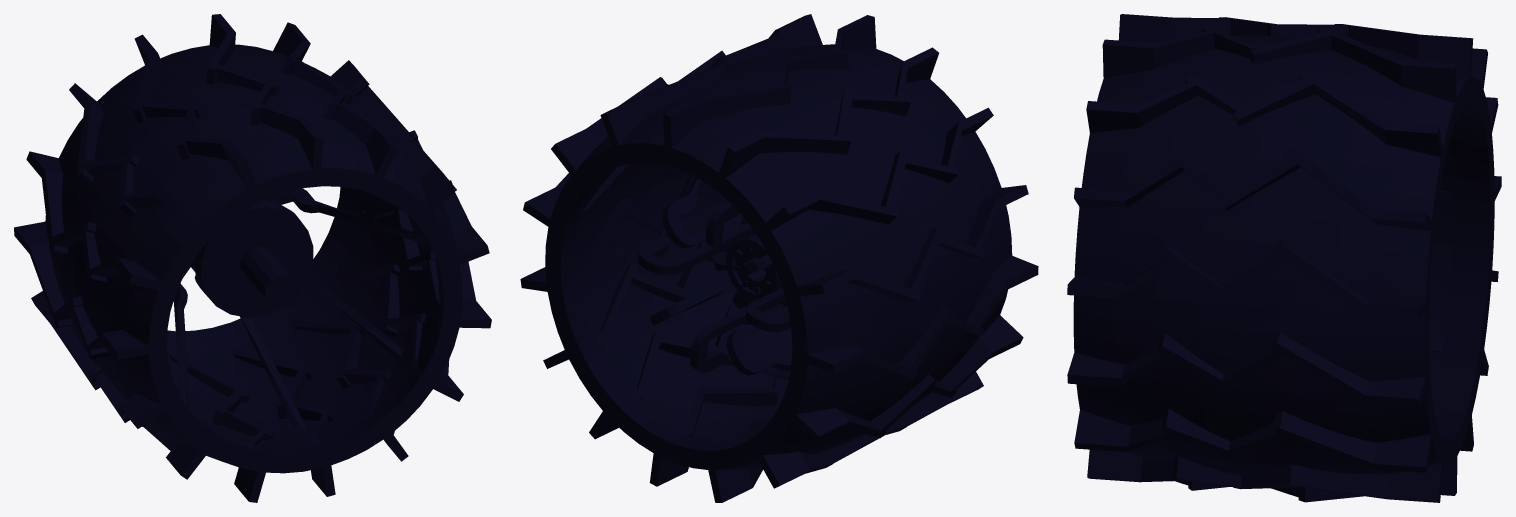
Rendered from Mars6Mars_Rover__Curiosity_1_0__-_1__Rover_Wheel_right_3.001.dae.
The picture shows the model from 3 angles, left to right: view 1: azimuth 30°, elevation 25°; view 2: azimuth 150°, elevation 25°; view 3: azimuth 270°, elevation 25°; orthographic projection. The views are drawn at different scales.
Parts seen in each view (by area): view 1: tmp_export_Mars6Mars_Rover__Curiosity_1_0__-_1__Rover_Wheel_; view 2: tmp_export_Mars6Mars_Rover__Curiosity_1_0__-_1__Rover_Wheel_; view 3: tmp_export_Mars6Mars_Rover__Curiosity_1_0__-_1__Rover_Wheel_.
Part boxes in pixels (<box>): tmp_export_Mars6Mars_Rover__Curiosity_1_0__-_1__Rover_Wheel_: <box>14,14,491,502</box>; tmp_export_Mars6Mars_Rover__Curiosity_1_0__-_1__Rover_Wheel_: <box>520,14,1038,502</box>; tmp_export_Mars6Mars_Rover__Curiosity_1_0__-_1__Rover_Wheel_: <box>1067,14,1501,502</box>.
Bounding box in the file's own units: 1.09 × 0.9096 × 1.
